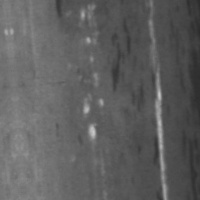inclusion: (174, 13, 199, 176), (103, 19, 139, 92)
scratches: (141, 0, 173, 176), (71, 1, 110, 142)
